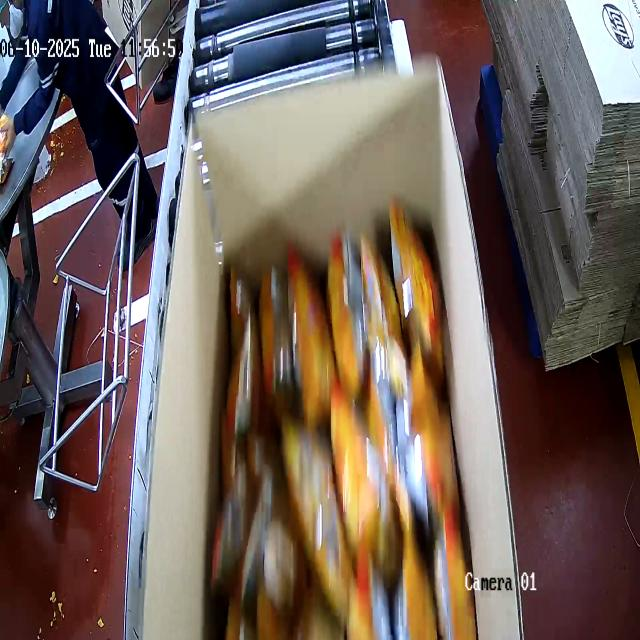FRENCH_CHEESE: (219, 238, 476, 640)
